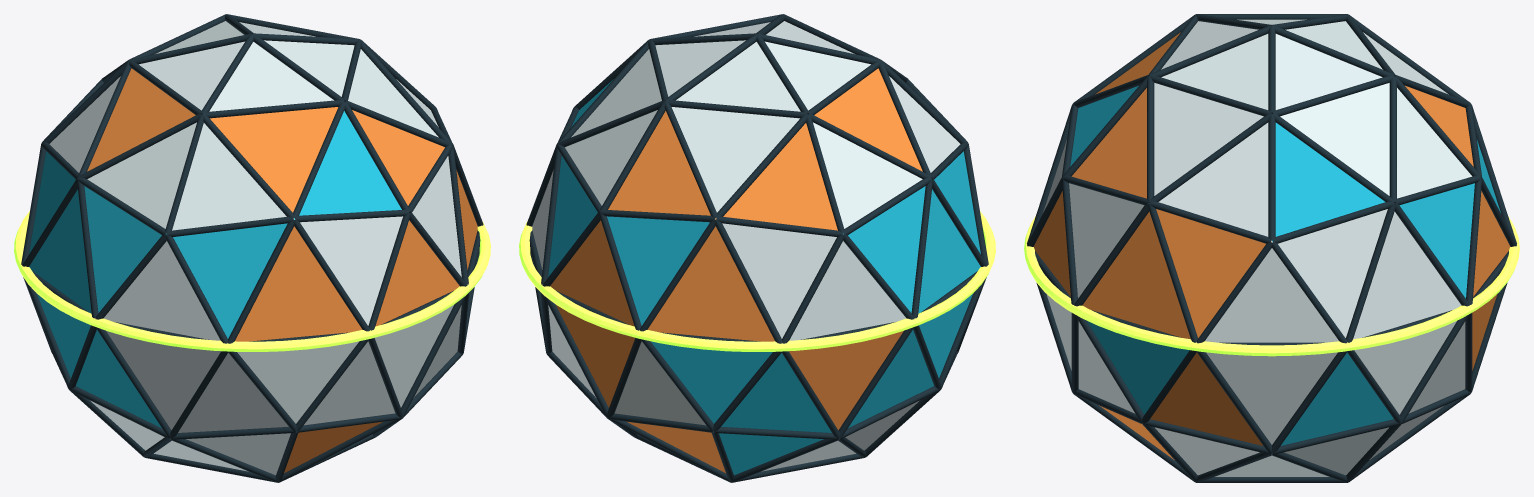
File: pulse-ball.glb
3 renders of one model, left to right at view 1: azimuth 30°, elevation 25°; view 2: azimuth 150°, elevation 25°; view 3: azimuth 270°, elevation 25°, orthographic. The views are drawn at different scales.
Visible parts, largest first — view 1: Pulse Ball • low-poly panel shell.001, Pulse Ball • equatorial energy ring.001, Pulse Ball • panel seam 97.001, Pulse Ball • panel seam 108.001, Pulse Ball • panel seam 116.001, Pulse Ball • panel seam 96.001, Pulse Ball • panel seam 109.001, Pulse Ball • panel seam 92.001, Pulse Ball • panel seam 93.001, Pulse Ball • panel seam 36.001, Pulse Ball • panel seam 77.001, Pulse Ball • panel seam 34.001 (+37 smaller); view 2: Pulse Ball • low-poly panel shell.001, Pulse Ball • equatorial energy ring.001, Pulse Ball • panel seam 100.001, Pulse Ball • panel seam 111.001, Pulse Ball • panel seam 101.001, Pulse Ball • panel seam 119.001, Pulse Ball • panel seam 110.001, Pulse Ball • panel seam 104.001, Pulse Ball • panel seam 103.001, Pulse Ball • panel seam 40.001, Pulse Ball • panel seam 82.001, Pulse Ball • panel seam 49.001 (+37 smaller); view 3: Pulse Ball • low-poly panel shell.001, Pulse Ball • equatorial energy ring.001, Pulse Ball • panel seam 87.001, Pulse Ball • panel seam 89.001, Pulse Ball • panel seam 106.001, Pulse Ball • panel seam 113.001, Pulse Ball • panel seam 54.001, Pulse Ball • panel seam 105.001, Pulse Ball • panel seam 114.001, Pulse Ball • panel seam 103.001, Pulse Ball • panel seam 93.001, Pulse Ball • panel seam 70.001 (+44 smaller).
Part boxes in pixels (x1,y1,x2,y2): Pulse Ball • low-poly panel shell.001: [29, 21, 477, 475]; Pulse Ball • equatorial energy ring.001: [14, 211, 490, 351]; Pulse Ball • panel seam 97.001: [227, 219, 295, 343]; Pulse Ball • panel seam 108.001: [202, 114, 295, 218]; Pulse Ball • panel seam 116.001: [202, 100, 344, 118]; Pulse Ball • panel seam 96.001: [77, 179, 98, 318]; Pulse Ball • panel seam 109.001: [78, 113, 202, 178]; Pulse Ball • panel seam 92.001: [294, 219, 369, 331]; Pulse Ball • panel seam 93.001: [448, 145, 468, 284]; Pulse Ball • panel seam 36.001: [165, 234, 227, 343]; Pulse Ball • panel seam 77.001: [95, 327, 171, 438]; Pulse Ball • panel seam 34.001: [344, 101, 409, 211]; Pulse Ball • low-poly panel shell.001: [532, 21, 980, 475]; Pulse Ball • equatorial energy ring.001: [519, 211, 995, 351]; Pulse Ball • panel seam 100.001: [714, 219, 782, 343]; Pulse Ball • panel seam 111.001: [714, 114, 807, 218]; Pulse Ball • panel seam 101.001: [911, 179, 932, 318]; Pulse Ball • panel seam 119.001: [665, 100, 807, 118]; Pulse Ball • panel seam 110.001: [807, 113, 931, 178]; Pulse Ball • panel seam 104.001: [640, 219, 715, 331]; Pulse Ball • panel seam 103.001: [541, 145, 561, 284]; Pulse Ball • panel seam 40.001: [782, 234, 844, 343]; Pulse Ball • panel seam 82.001: [838, 327, 914, 438]; Pulse Ball • panel seam 49.001: [600, 101, 665, 211]; Pulse Ball • low-poly panel shell.001: [1033, 19, 1510, 476]; Pulse Ball • equatorial energy ring.001: [1024, 216, 1519, 356]; Pulse Ball • panel seam 87.001: [1147, 203, 1197, 342]; Pulse Ball • panel seam 89.001: [1346, 203, 1396, 342]; Pulse Ball • panel seam 106.001: [1149, 113, 1271, 202]; Pulse Ball • panel seam 113.001: [1272, 113, 1394, 202]; Pulse Ball • panel seam 54.001: [1268, 114, 1275, 240]; Pulse Ball • panel seam 105.001: [1147, 76, 1154, 203]; Pulse Ball • panel seam 114.001: [1389, 76, 1396, 203]; Pulse Ball • panel seam 103.001: [1394, 202, 1469, 306]; Pulse Ball • panel seam 93.001: [1074, 202, 1149, 306]; Pulse Ball • panel seam 70.001: [1196, 351, 1272, 453].
Bounding box in the file's own units: 1.89 × 1.88 × 1.89.
